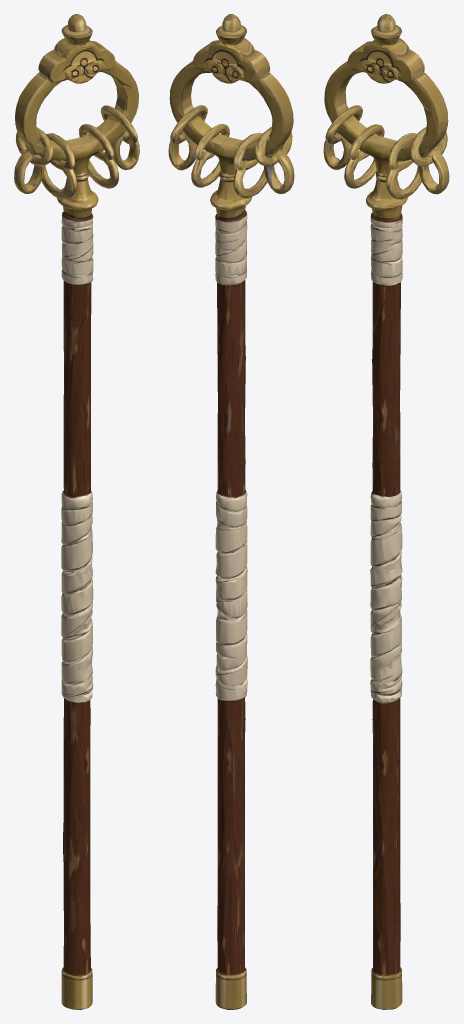
File: ringed-staff.glb
The picture shows the model from 3 angles, left to right: view 1: azimuth 30°, elevation 25°; view 2: azimuth 150°, elevation 25°; view 3: azimuth 330°, elevation 25°; orthographic projection.
Size of the model in its own units: 0.2463 by 1.9 by 0.1284.
1 material, 1 textured.
